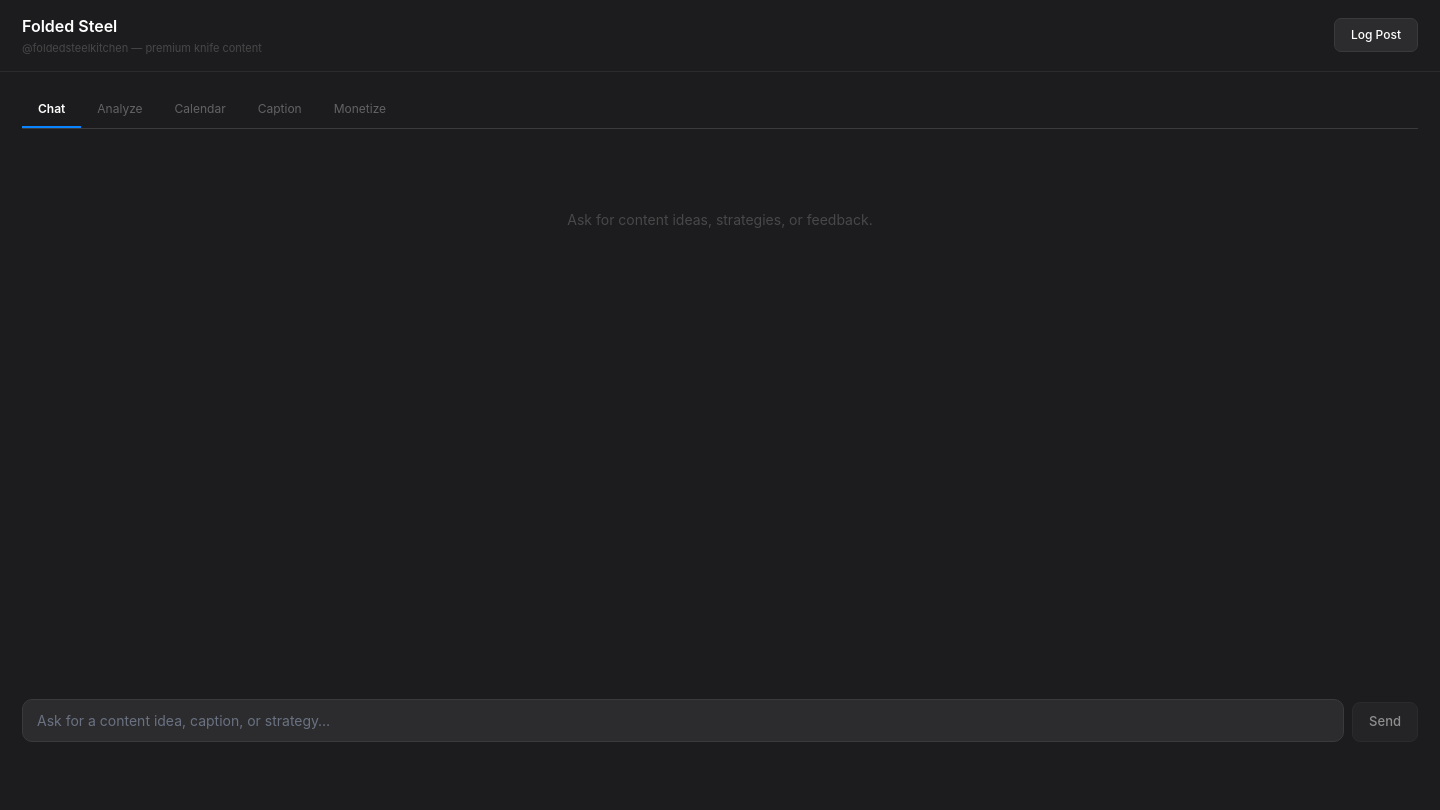
Scenario: shows LogPostForm when Log Post clicked
The width and height of the screenshot is (1440, 810).
What coordinates should you click on to do the following:
click the button "Log Post"
I would click on:
 (1376, 35)
Its box is [1334,18,1418,52].
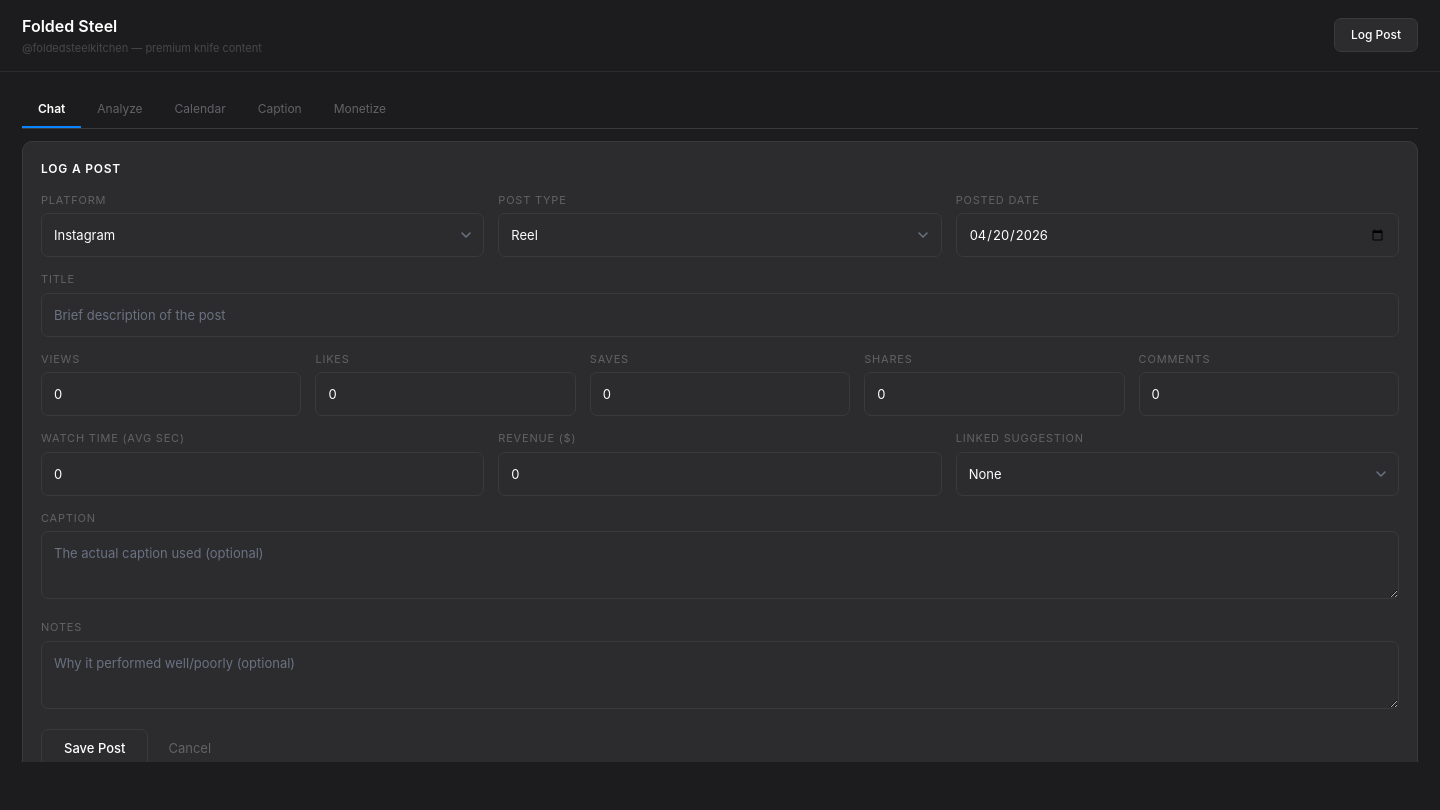
Result: the dropdown labelled "Platform" is shown at [41,213,484,257]
